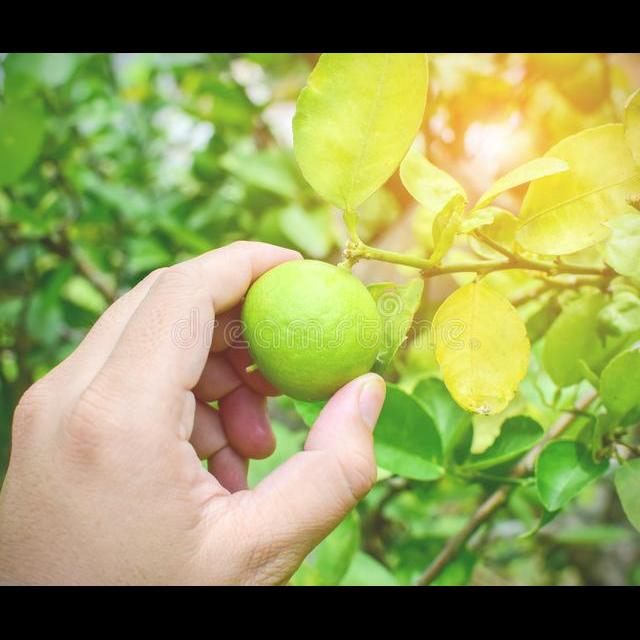lime: (235, 256, 392, 407)
